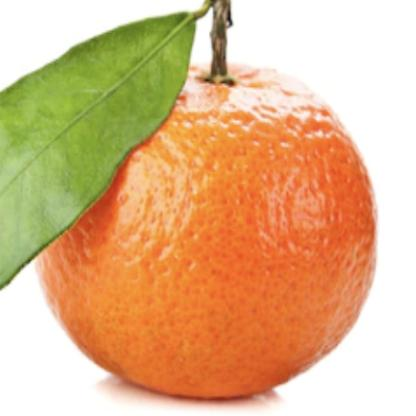fresh: (32, 51, 372, 402)
